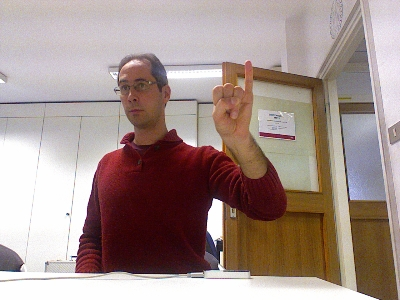小指: (209, 58, 254, 142)
